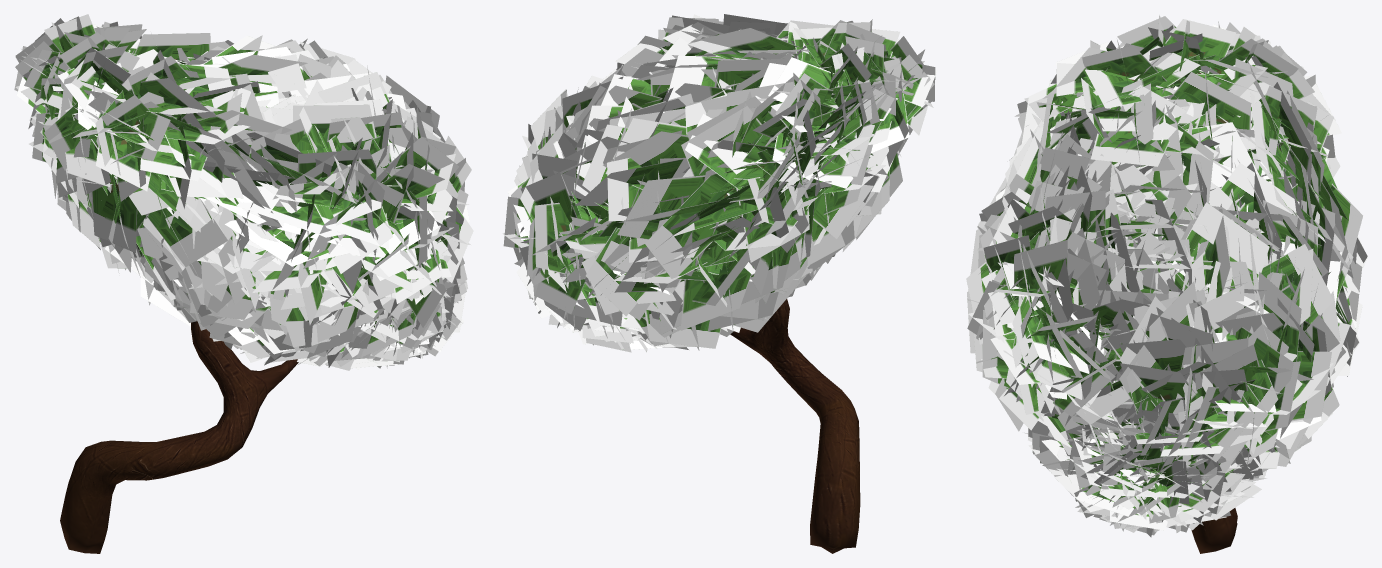
File: green_foliage_polish_test_02.FBX
3 renders of one model, left to right at view 1: azimuth 30°, elevation 25°; view 2: azimuth 150°, elevation 25°; view 3: azimuth 270°, elevation 25°, orthographic. The views are drawn at different scales.
Visible parts, largest first — view 1: Object007; view 2: Object007; view 3: Object007.
Part boxes in pixels (x1=…): Object007: x1=14, y1=14, x2=473, y2=553; Object007: x1=502, y1=14, x2=937, y2=553; Object007: x1=966, y1=15, x2=1367, y2=553.
Size of the model in its own units: 2265 by 2874 by 1978.
2 materials, 2 textured.
